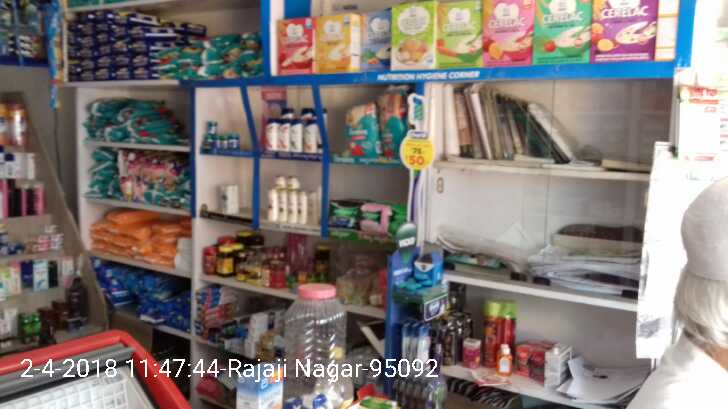oralcare: (392, 318, 449, 409)
vicks: (203, 119, 240, 150)
